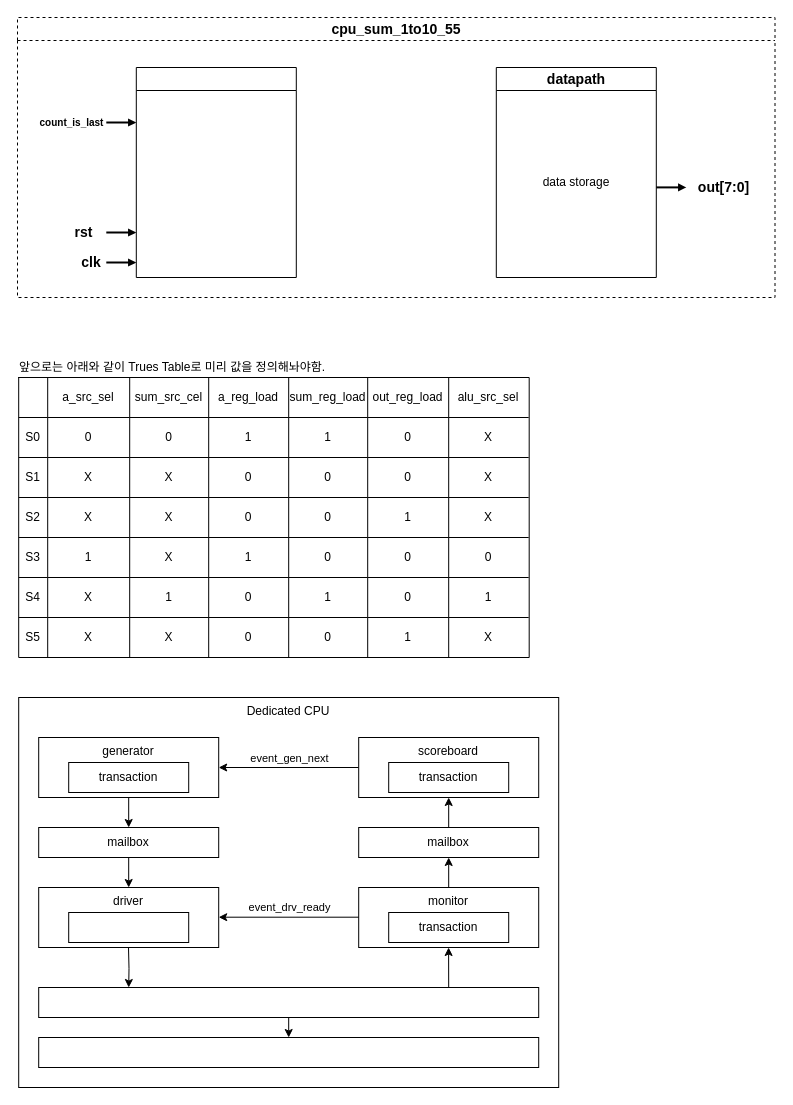
Some shapes in this 793 by 1105 pixel diagram are drawn without their labels. The shapes that lost their labels are listed below. From the top down, each one's centre as x and y in pixels, then its label:
At [215,172]: "control_unit".
At [128,927]: "dedicated_cpu_vif".
At [288,1002]: "dedicated_cpu_if".
At [288,1052]: "dut".
